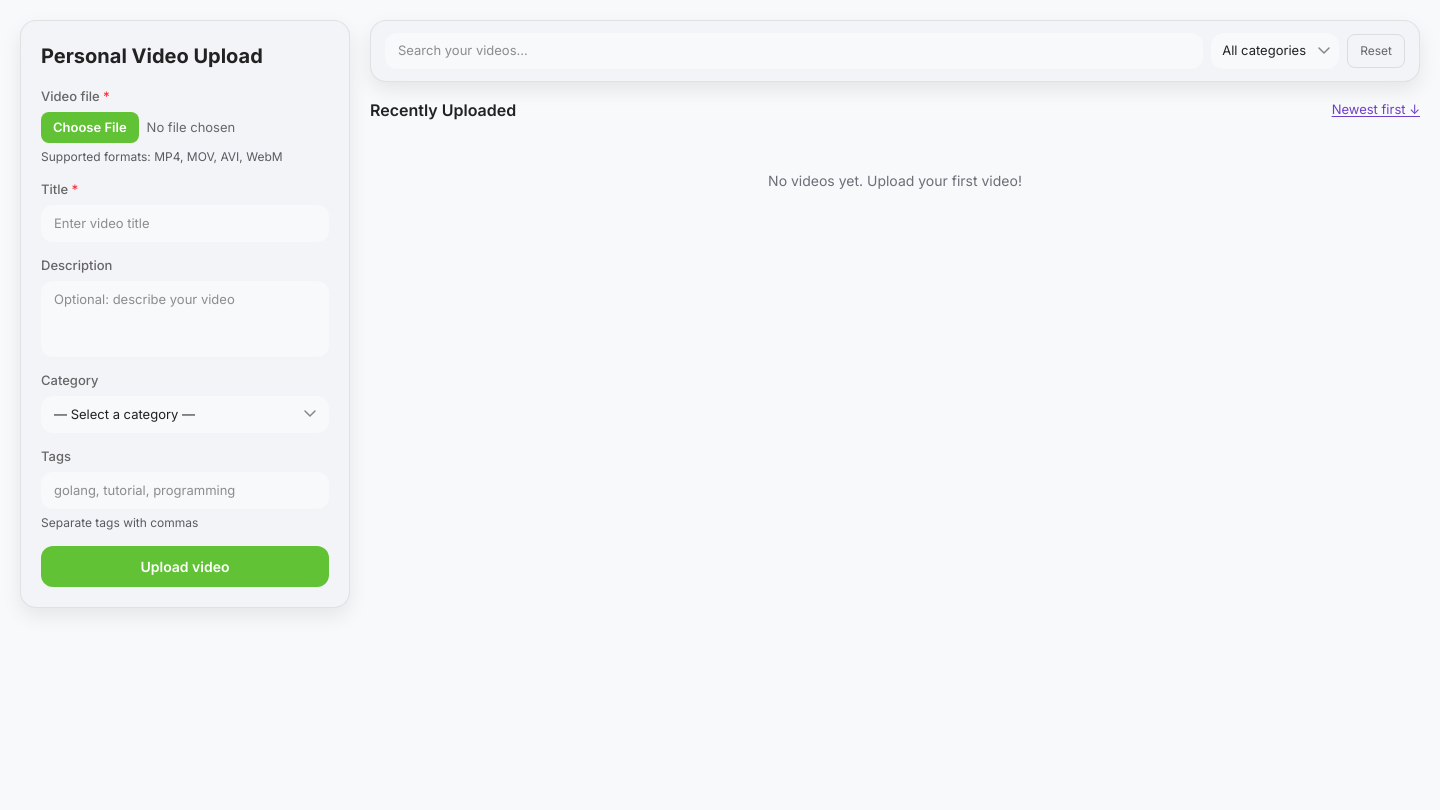
Test: UploadPage › shows error when submit is clicked with no file selected
Expected: the button "Upload video" is shown, [41,546,329,587]
Type "My Video" into the field labelled "Title *" at (185, 223), box [41,204,329,242]
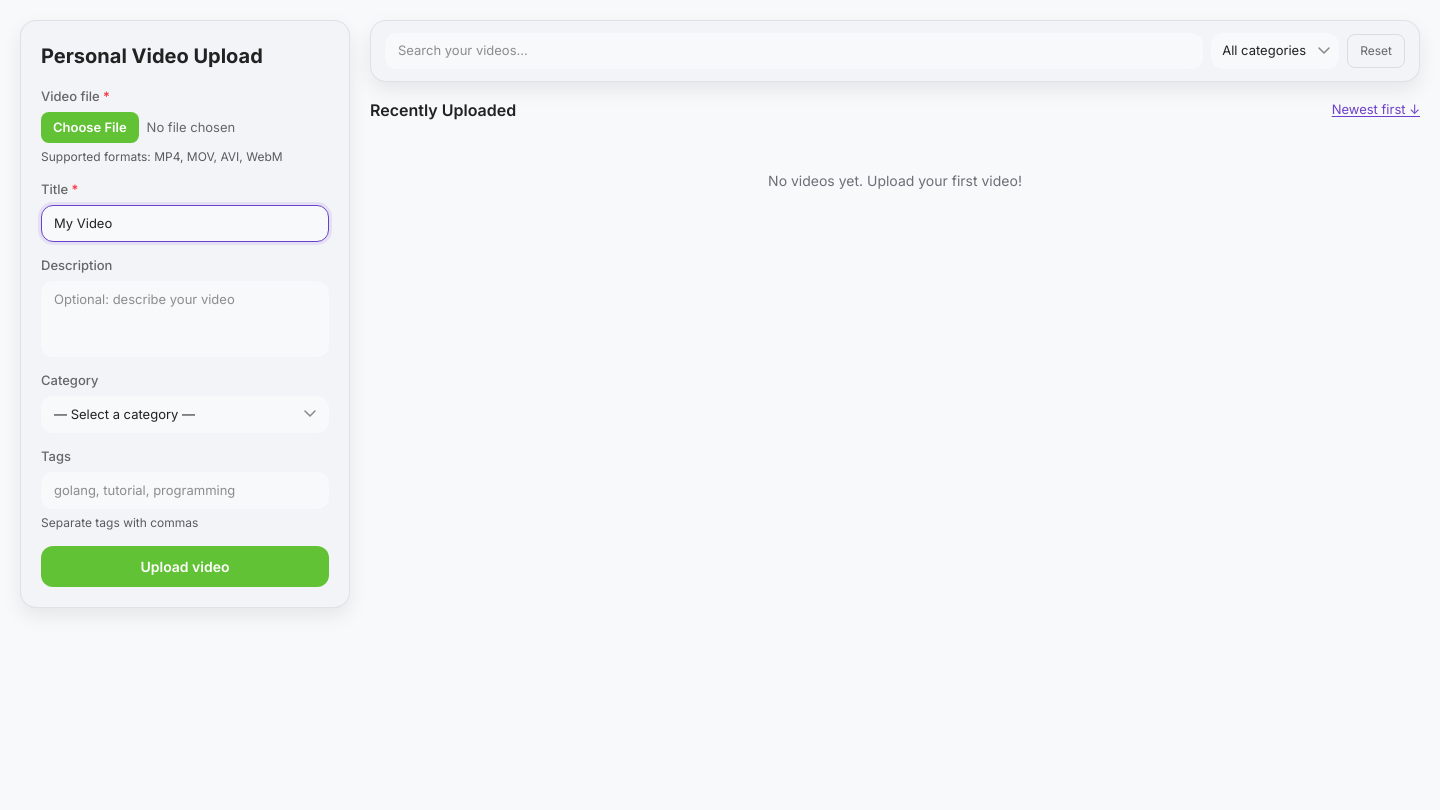
Click the button "Upload video" at (185, 566), box [41,546,329,587]
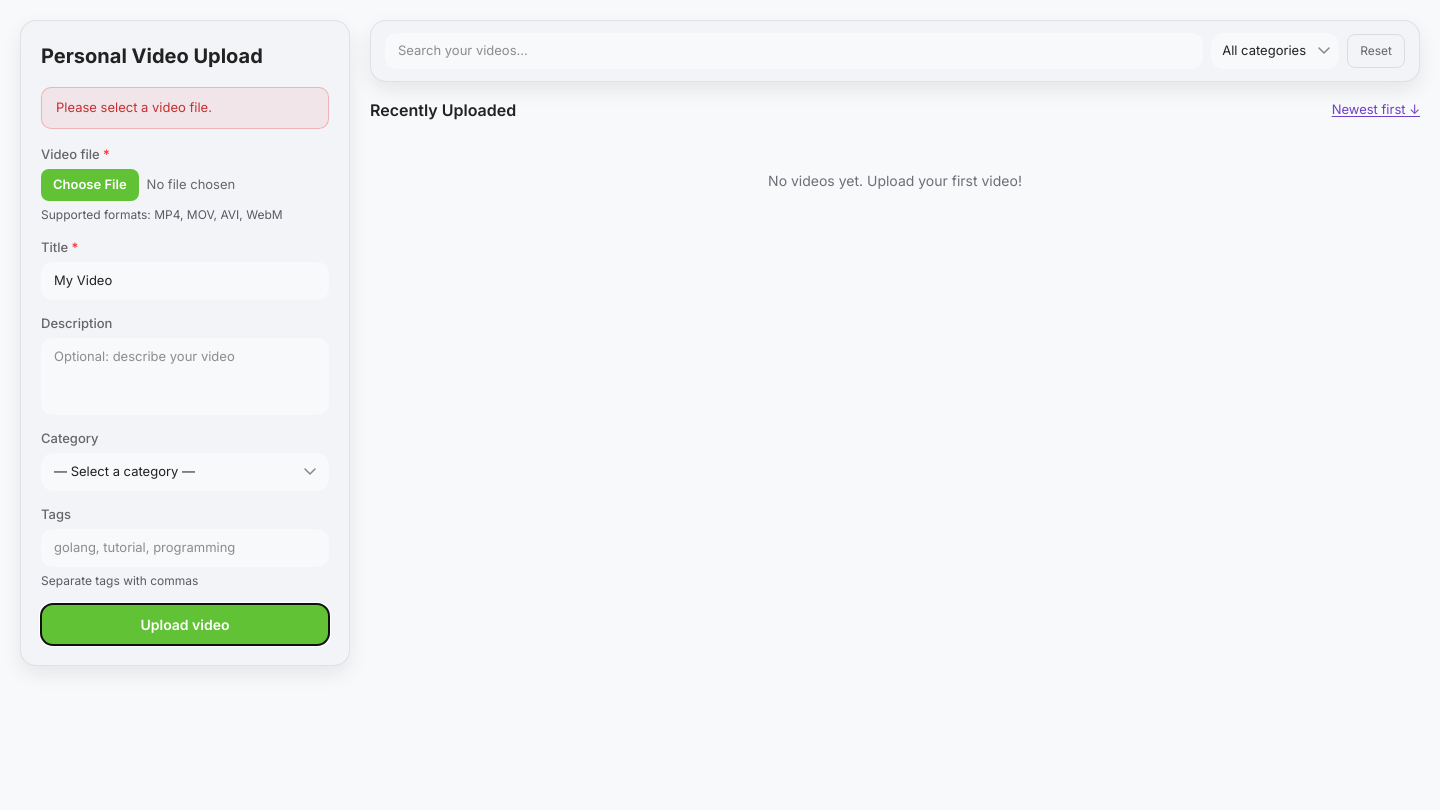
Expected: the message shows "Please select a video file", [56,99,212,115]
